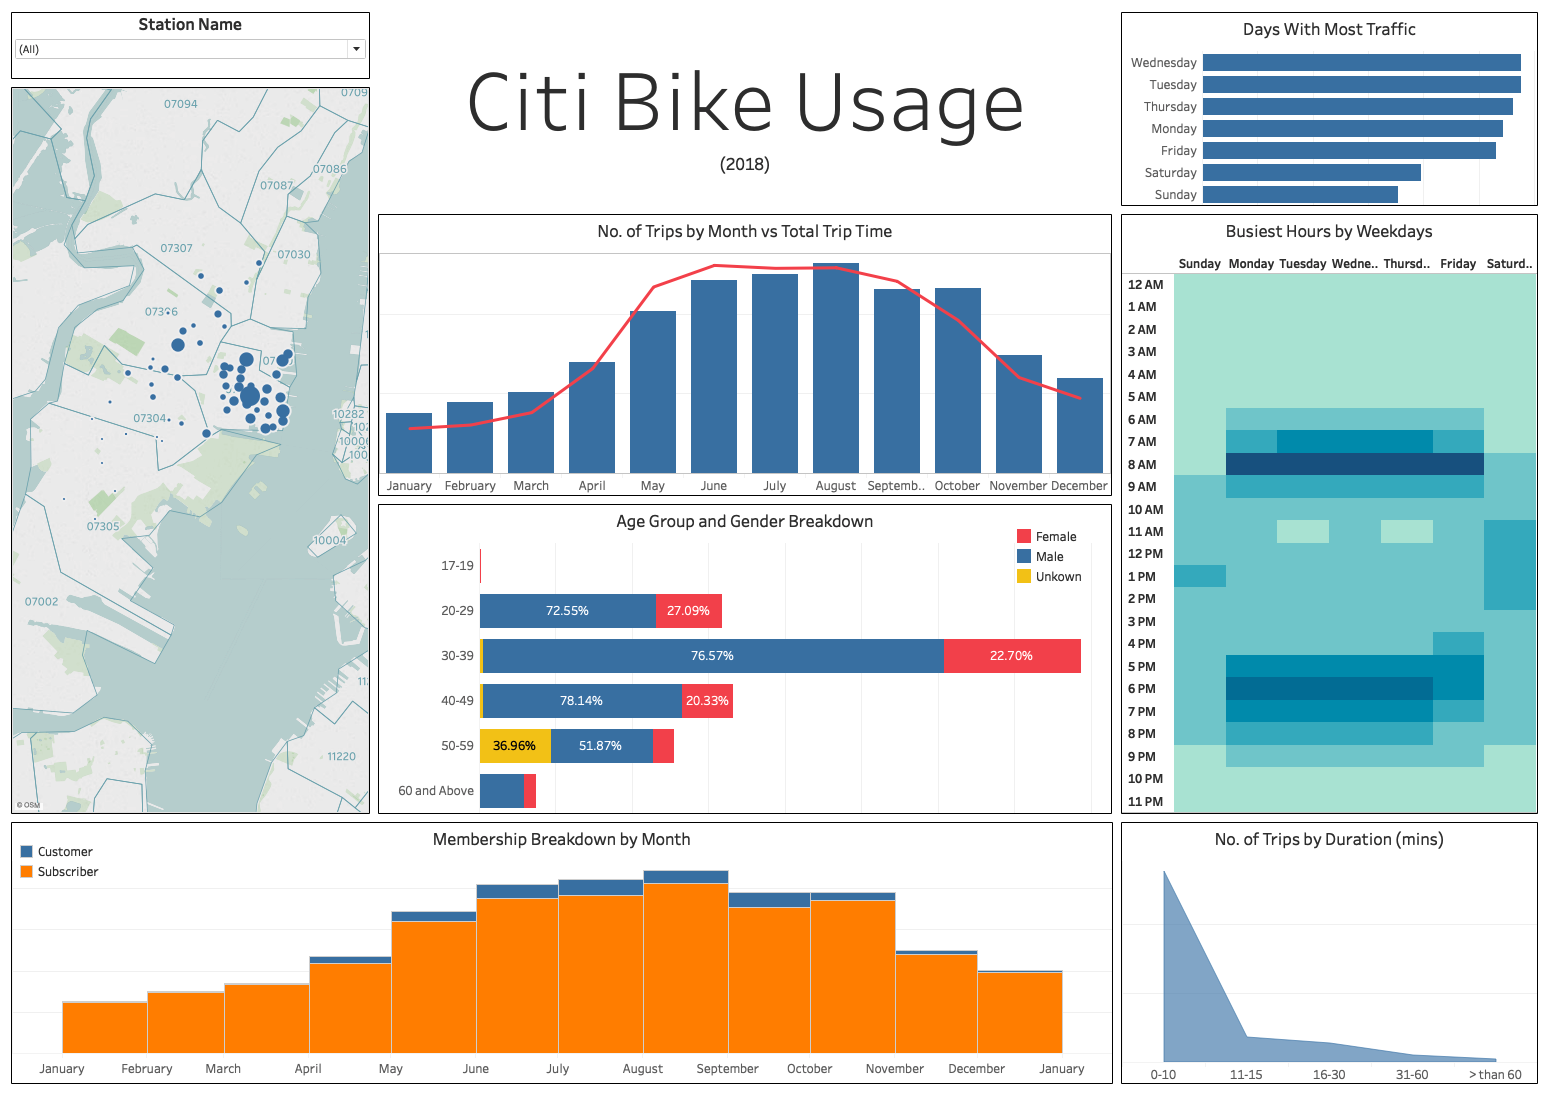

This screenshot's page, from the dashboard's own definition file:
{"tool":"tableau","page":{"name":"Citi Bike Usage 2018","canvas":[1000,1000],"units":"permille","ordinal":0},"visuals":[{"type":"filter","title":"Age and Gender","param":"[federated.0scfoup14zndy41c2tqes089igq0].[none:start station name:nk]","box":[5.2,7.3,236.9,68.7]},{"type":"title","box":[242.1,7.3,478.7,184.7]},{"type":"worksheet","title":"Weekday Trips","mark":"Bar","rows":["starttime"],"cols":["Number of Records"],"box":[720.8,7.3,274.1,184.6]},{"type":"worksheet","title":"Start Stations","mark":"Automatic","rows":["start station latitude"],"cols":["start station longitude"],"box":[5.2,76,236.9,670.3]},{"type":"worksheet","title":"Weekday Heat Chart","mark":"Automatic","rows":["Calculation_520728767226085378"],"cols":["starttime"],"box":[720.8,191.9,274.1,554.3]},{"type":"worksheet","title":"Trips by Month vs Total Trip Time","mark":"Automatic","rows":["Calculation_520728767221272576","Number of Records"],"cols":["starttime"],"box":[242.1,192,478.7,264.5]},{"type":"worksheet","title":"Age and Gender","mark":"Automatic","cols":["Number of Records"],"box":[242.1,456.4,478.7,289.8]},{"type":"legend","title":"Age and Gender","param":"[federated.0scfoup14zndy41c2tqes089igq0].[none:Calculation_520728767231500295:nk","box":[654.1,463.5,59.6,71.2]},{"type":"worksheet","title":"User Type","mark":"Bar","rows":["Number of Records"],"cols":["starttime"],"box":[5.2,746.3,715.6,246.4]},{"type":"worksheet","title":"Trips by Duration","mark":"Area","rows":["Number of Records"],"cols":["Calculation_520728767236284425"],"box":[720.8,746.3,274.1,246.4]},{"type":"legend","title":"User Type","param":"[federated.0scfoup14zndy41c2tqes089igq0].[none:usertype:nk]","box":[11.1,750.9,77.1,71.2]}]}

Visuals, with their boxes on the dashboard's canvas, which has no fixed pixel size, in thousandths of its width and height (x1, y1, x2, y2). These are canvas units, not pixel positions in the 1550x1095 screenshot, which may show the page scaled, cropped or inside an application window:
"Age and Gender" filter: Rect(5, 7, 242, 76)
title: Rect(242, 7, 721, 192)
"Weekday Trips" worksheet (Bar marks): Rect(721, 7, 995, 192)
"Start Stations" worksheet: Rect(5, 76, 242, 746)
"Weekday Heat Chart" worksheet: Rect(721, 192, 995, 746)
"Trips by Month vs Total Trip Time" worksheet: Rect(242, 192, 721, 456)
"Age and Gender" worksheet: Rect(242, 456, 721, 746)
"Age and Gender" legend: Rect(654, 464, 714, 535)
"User Type" worksheet (Bar marks): Rect(5, 746, 721, 993)
"Trips by Duration" worksheet (Area marks): Rect(721, 746, 995, 993)
"User Type" legend: Rect(11, 751, 88, 822)
